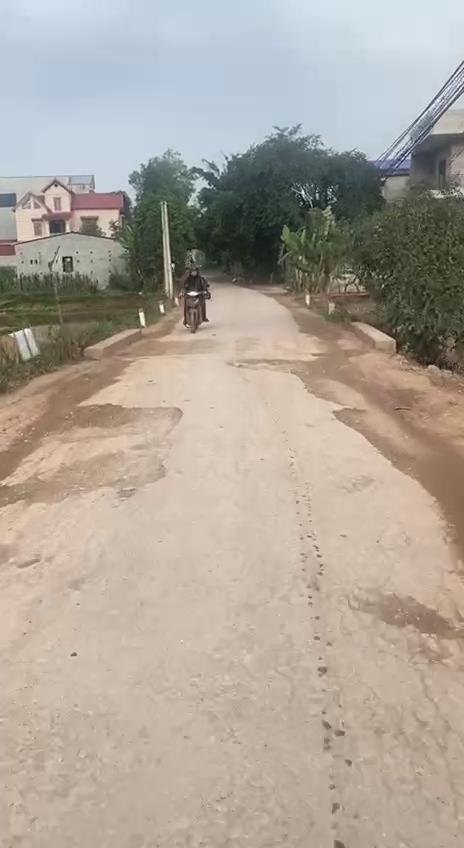pothole: (0, 449, 170, 506), (48, 402, 188, 442), (230, 353, 311, 376)
